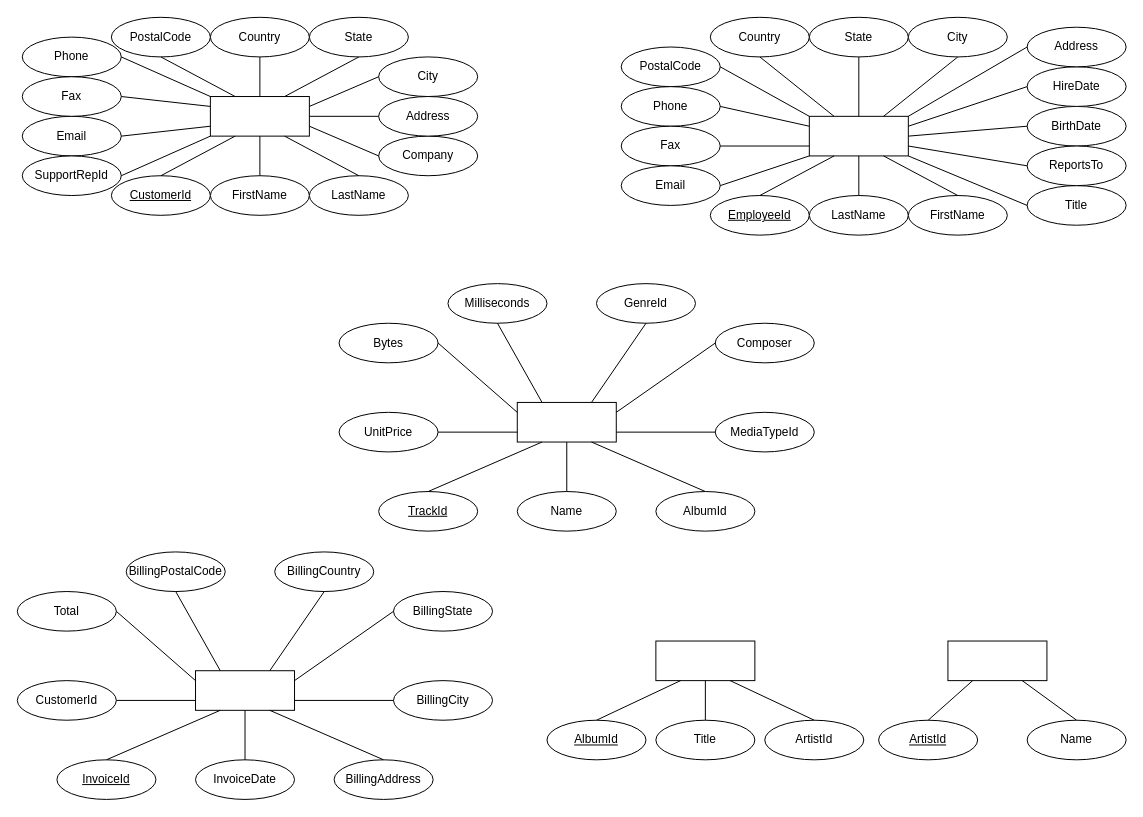
This 1143x817 diagram has some shape labels left out. The shapes that lost their labels are listed below. From the top down, each one's centre as x and y in pixels, then its label:
At point 259,116: "CUSTOMER".
At point 858,135: "EMPLOYEE".
At point 566,421: "TRACK".
At point 705,660: "ALBUM".
At point 997,660: "ARTIST".
At point 245,690: "INVOICE".
